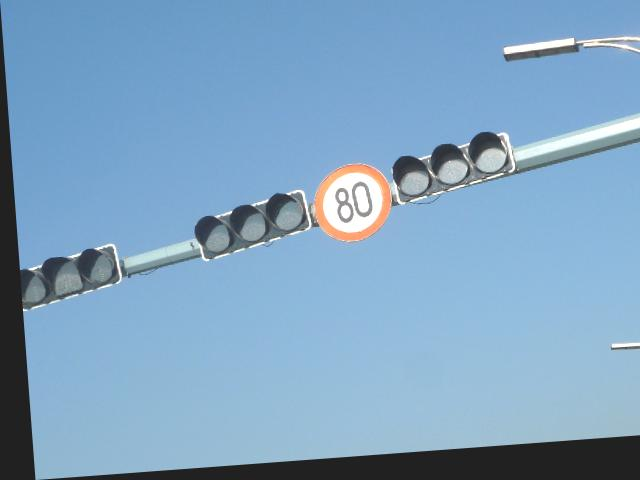limit80: (303, 160, 391, 255)
